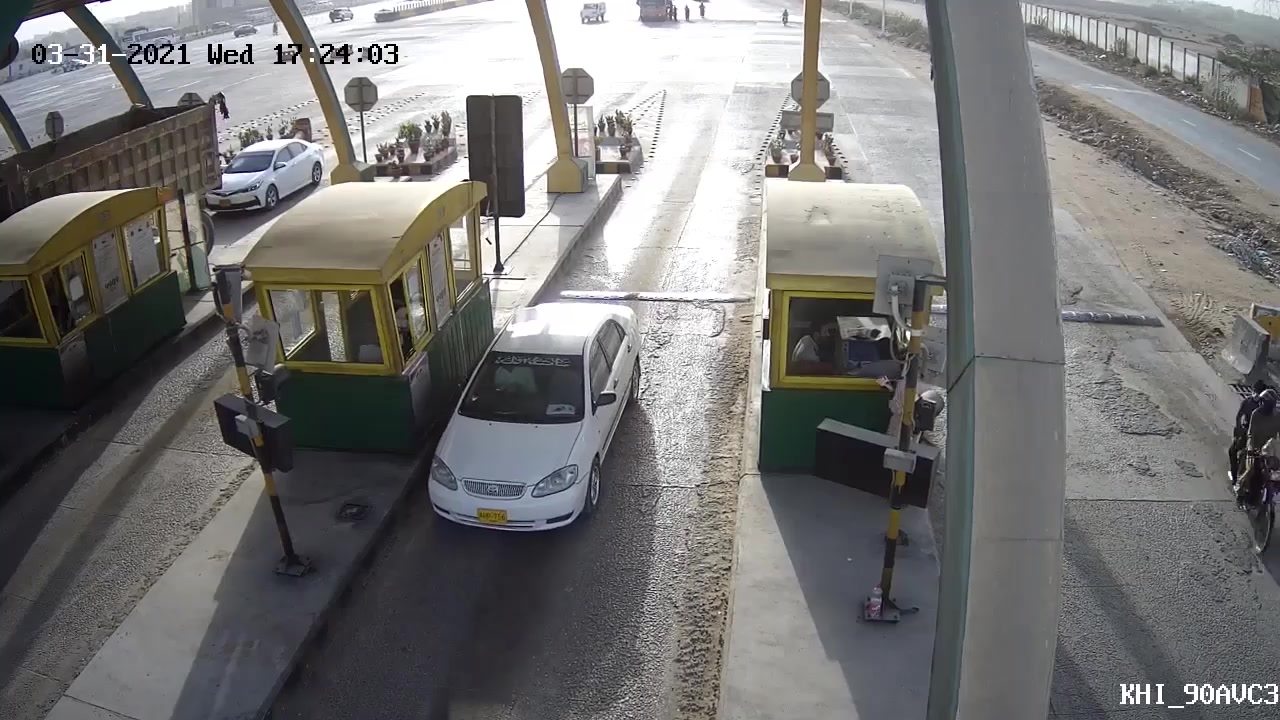F1: (424, 295, 643, 564)
